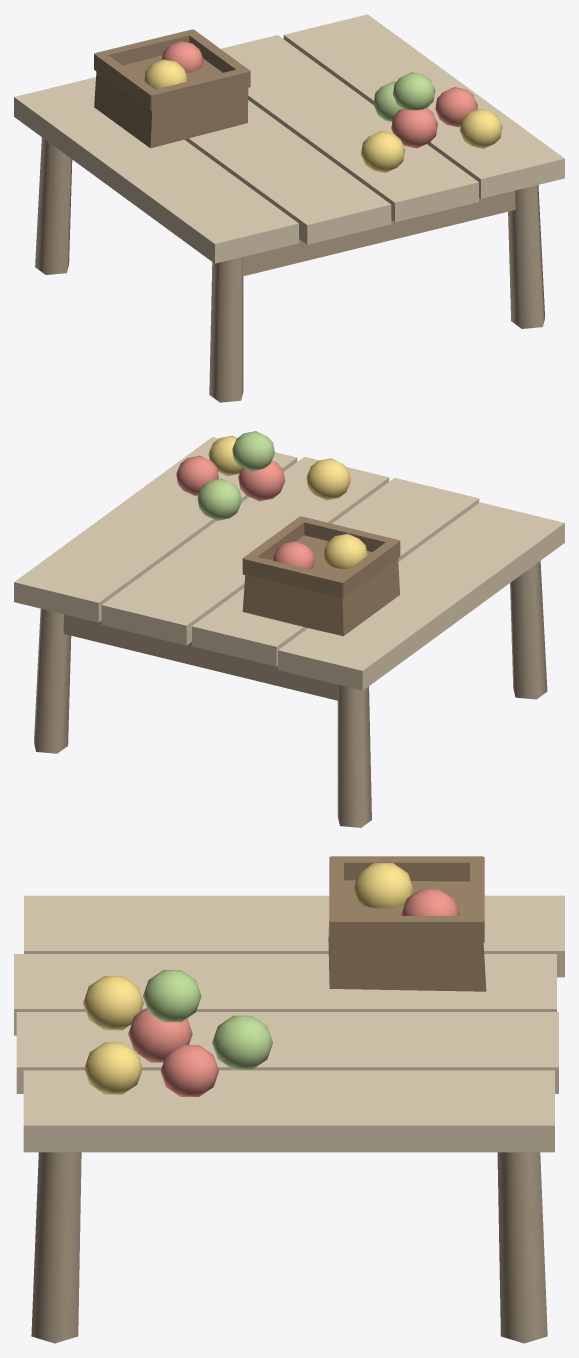
The model's file is building.stall.glb.
The picture shows the model from 3 angles, top to bottom: view 1: azimuth 30°, elevation 25°; view 2: azimuth 150°, elevation 25°; view 3: azimuth 270°, elevation 25°; orthographic projection. The views are drawn at different scales.
Visible parts, largest first — view 1: Paint, PaintDark, Wood, FruitGold, FruitRed, FruitGreen; view 2: Paint, PaintDark, Wood, FruitGold, FruitRed, FruitGreen; view 3: Paint, Wood, PaintDark, FruitGold, FruitRed, FruitGreen.
Boxes of the visible parts, left/top/right/bottom form: Paint: left=14, top=14, right=564, bottom=263; PaintDark: left=35, top=137, right=544, bottom=402; Wood: left=94, top=29, right=250, bottom=148; FruitGold: left=144, top=59, right=502, bottom=172; FruitRed: left=161, top=41, right=477, bottom=148; FruitGreen: left=373, top=72, right=435, bottom=121; Paint: left=14, top=437, right=564, bottom=690; PaintDark: left=34, top=561, right=547, bottom=827; Wood: left=242, top=516, right=400, bottom=636; FruitGold: left=208, top=435, right=367, bottom=568; FruitRed: left=176, top=455, right=314, bottom=569; FruitGreen: left=197, top=431, right=274, bottom=520; Paint: left=14, top=895, right=564, bottom=1152; Wood: left=328, top=856, right=486, bottom=991; PaintDark: left=31, top=1152, right=547, bottom=1343; FruitGold: left=83, top=863, right=413, bottom=1094; FruitRed: left=128, top=889, right=459, bottom=1096; FruitGreen: left=143, top=970, right=272, bottom=1069.
Size of the model in its own units: 0.928 by 0.591 by 0.939.
